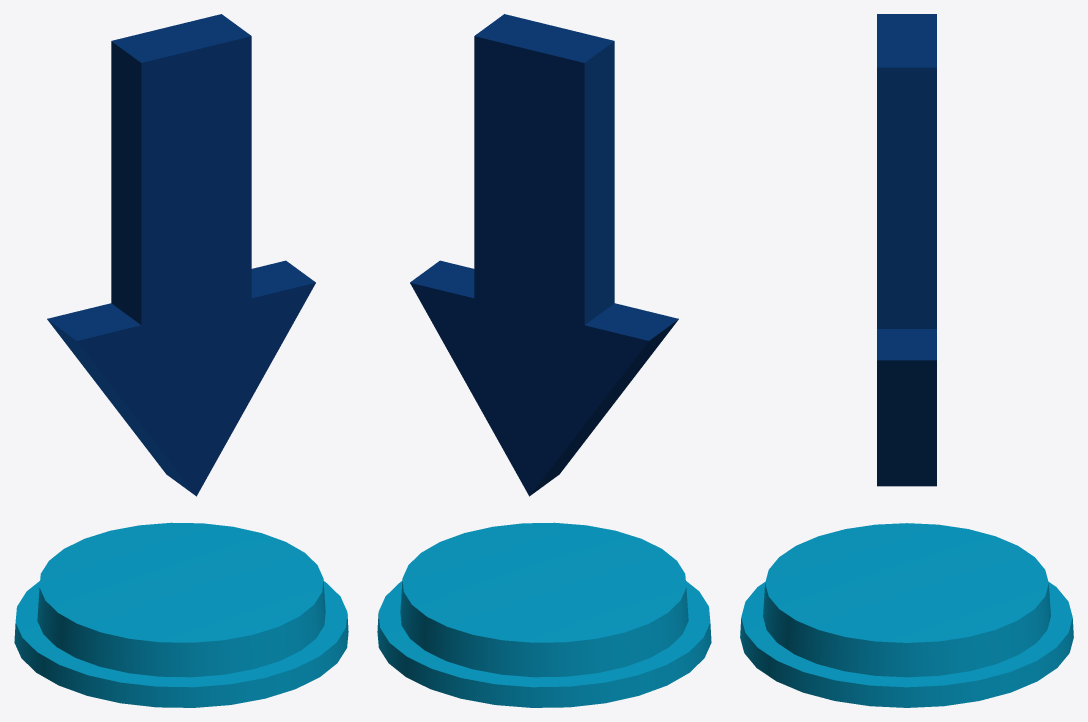
Rendered from Trigger_Button.fbx.
3 views of the same model, side by side, from view 1: azimuth 30°, elevation 25°; view 2: azimuth 150°, elevation 25°; view 3: azimuth 270°, elevation 25° (orthographic).
Parts seen in each view (by area): view 1: Arrow, Button, Button_Part; view 2: Arrow, Button, Button_Part; view 3: Button, Arrow, Button_Part.
Part boxes in pixels (bbox=[...]): Arrow: bbox=[47, 14, 315, 496]; Button: bbox=[37, 522, 325, 677]; Button_Part: bbox=[14, 581, 348, 707]; Arrow: bbox=[410, 14, 678, 496]; Button: bbox=[400, 522, 688, 677]; Button_Part: bbox=[377, 581, 711, 707]; Button: bbox=[763, 523, 1050, 677]; Arrow: bbox=[877, 14, 936, 486]; Button_Part: bbox=[740, 582, 1073, 707].
Bounding box in the file's own units: 249 × 490 × 249.
